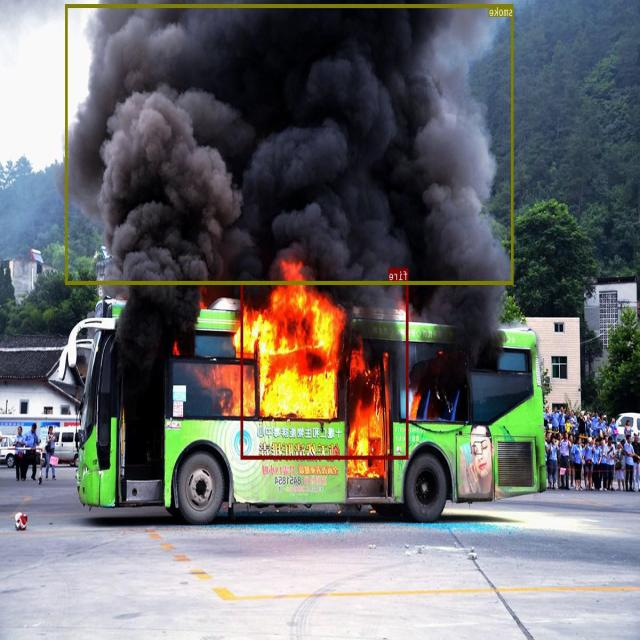fire: (241, 281, 409, 458)
smoke: (66, 4, 514, 283)
